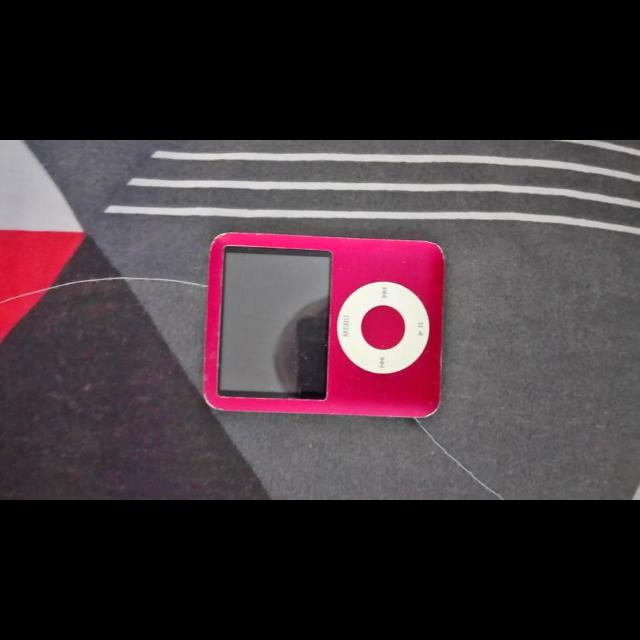Music-Player: (198, 233, 454, 422)
